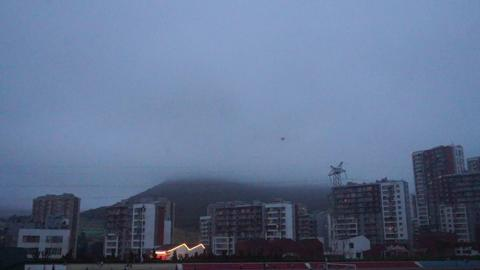UAV: (279, 138, 286, 141)
